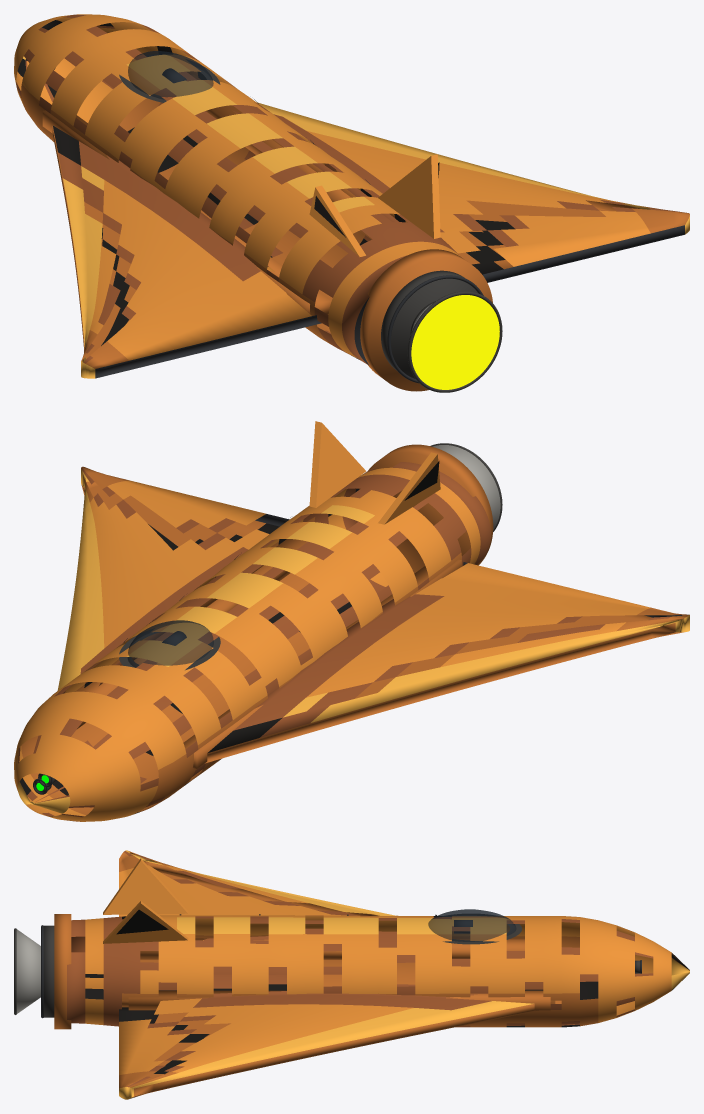
Rendered from Ship_TigerWing_9.glb.
The picture shows the model from 3 angles, top to bottom: view 1: azimuth 30°, elevation 25°; view 2: azimuth 150°, elevation 25°; view 3: azimuth 270°, elevation 25°; orthographic projection. The views are drawn at different scales.
Visible parts, largest first — view 1: Fuselage_OrganicEllipsoidTaperedBody_BakedPaint, Wing_Left_LongDeltaAerofoil_BakedPaint, Wing_Right_LongDeltaAerofoil_BakedPaint, EngineEmitter, AftCollar_IntegratedSingleEngineBand, EngineBlock_AftDarkSingleEngineHousing, CanopyGlass_LowInsetDome, TailFin_Right_CantedStabilizer, WingRoot_Left_EmbeddedShoulder, TailFin_Left_CantedStabilizer, EngineLip_Center_DarkWideRim, WingRoot_Right_EmbeddedShoulder (+1 smaller); view 2: Fuselage_OrganicEllipsoidTaperedBody_BakedPaint, Wing_Left_LongDeltaAerofoil_BakedPaint, Wing_Right_LongDeltaAerofoil_BakedPaint, AftCollar_IntegratedSingleEngineBand, CanopyGlass_LowInsetDome, TailFin_Right_CantedStabilizer, WingRoot_Left_EmbeddedShoulder, TailFin_Left_CantedStabilizer, EngineBell_Center_BroadBurnishedNozzle, WingRoot_Right_EmbeddedShoulder, CanopyFrame_DorsalOvalRim; view 3: Fuselage_OrganicEllipsoidTaperedBody_BakedPaint, Wing_Right_LongDeltaAerofoil_BakedPaint, Wing_Left_LongDeltaAerofoil_BakedPaint, TailFin_Left_CantedStabilizer, CanopyGlass_LowInsetDome, AftCollar_IntegratedSingleEngineBand, EngineBell_Center_BroadBurnishedNozzle, WingRoot_Right_EmbeddedShoulder, TailFin_Right_CantedStabilizer, EngineBlock_AftDarkSingleEngineHousing, WingRoot_Left_EmbeddedShoulder, TailFin_Right_BakedTrimPatch (+1 smaller).
Part boxes in pixels (<box>): Fuselage_OrganicEllipsoidTaperedBody_BakedPaint: <box>14,14,459,365</box>; Wing_Left_LongDeltaAerofoil_BakedPaint: <box>52,125,321,378</box>; Wing_Right_LongDeltaAerofoil_BakedPaint: <box>232,102,689,282</box>; EngineEmitter: <box>411,295,499,389</box>; AftCollar_IntegratedSingleEngineBand: <box>360,249,492,391</box>; EngineBlock_AftDarkSingleEngineHousing: <box>381,270,477,378</box>; CanopyGlass_LowInsetDome: <box>128,51,213,99</box>; TailFin_Right_CantedStabilizer: <box>378,154,440,238</box>; WingRoot_Left_EmbeddedShoulder: <box>42,110,330,314</box>; TailFin_Left_CantedStabilizer: <box>309,185,365,256</box>; EngineLip_Center_DarkWideRim: <box>407,291,502,392</box>; WingRoot_Right_EmbeddedShoulder: <box>191,74,372,239</box>; Fuselage_OrganicEllipsoidTaperedBody_BakedPaint: <box>14,462,490,821</box>; Wing_Left_LongDeltaAerofoil_BakedPaint: <box>205,562,689,763</box>; Wing_Right_LongDeltaAerofoil_BakedPaint: <box>57,466,289,690</box>; AftCollar_IntegratedSingleEngineBand: <box>359,444,493,573</box>; CanopyGlass_LowInsetDome: <box>127,620,213,667</box>; TailFin_Right_CantedStabilizer: <box>309,421,365,507</box>; WingRoot_Left_EmbeddedShoulder: <box>183,559,461,768</box>; TailFin_Left_CantedStabilizer: <box>378,452,440,524</box>; EngineBell_Center_BroadBurnishedNozzle: <box>432,445,500,529</box>; WingRoot_Right_EmbeddedShoulder: <box>77,539,307,728</box>; CanopyFrame_DorsalOvalRim: <box>119,629,220,670</box>; Fuselage_OrganicEllipsoidTaperedBody_BakedPaint: <box>67,915,689,1027</box>; Wing_Right_LongDeltaAerofoil_BakedPaint: <box>119,991,555,1099</box>; Wing_Left_LongDeltaAerofoil_BakedPaint: <box>119,850,395,940</box>; TailFin_Left_CantedStabilizer: <box>103,858,188,914</box>; CanopyGlass_LowInsetDome: <box>428,909,516,941</box>; AftCollar_IntegratedSingleEngineBand: <box>54,914,71,1029</box>; EngineBell_Center_BroadBurnishedNozzle: <box>16,929,40,1013</box>; WingRoot_Right_EmbeddedShoulder: <box>128,990,550,1010</box>; TailFin_Right_CantedStabilizer: <box>103,901,188,943</box>; EngineBlock_AftDarkSingleEngineHousing: <box>43,925,54,1017</box>; WingRoot_Left_EmbeddedShoulder: <box>140,938,524,959</box>; TailFin_Right_BakedTrimPatch: <box>116,909,168,934</box>.
Size of the model in its own units: 5.91 by 1.68 by 7.13.
